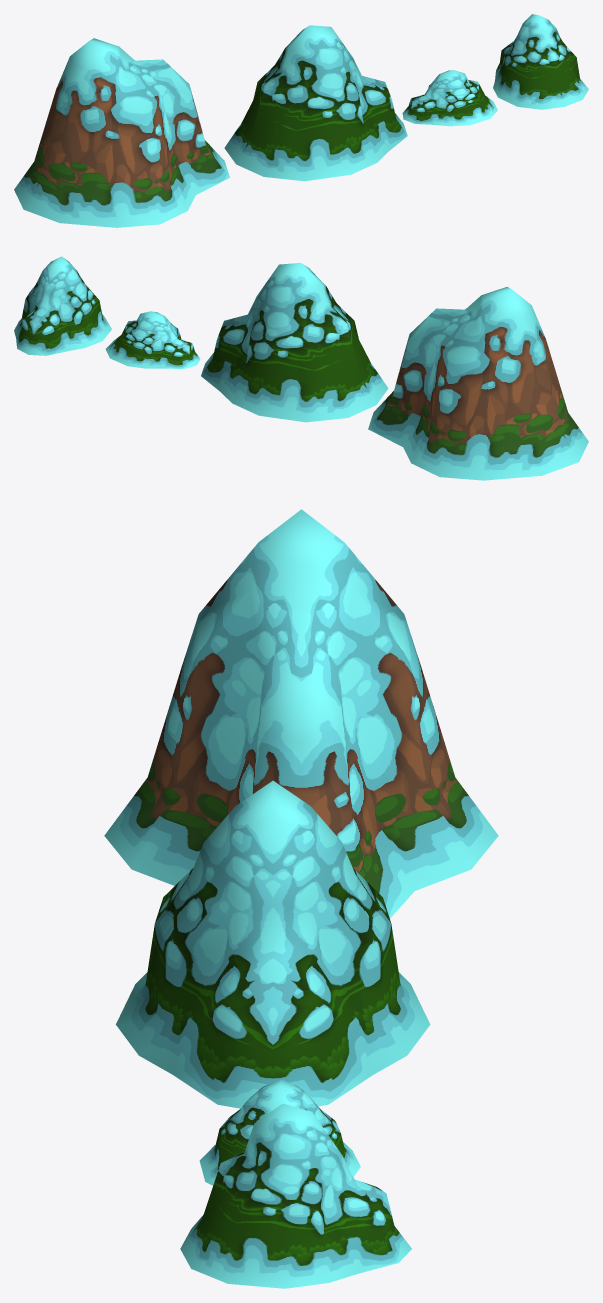
Rendered from Snow_Mountain.FBX.
3 views of the same model, one above another, from view 1: azimuth 30°, elevation 25°; view 2: azimuth 150°, elevation 25°; view 3: azimuth 270°, elevation 25° (orthographic). The views are drawn at different scales.
Visible parts, largest first — view 1: Snow_Mountain_01, Snow_Mountain_02, Snow_Mountain_003, Snow_Mountain_004; view 2: Snow_Mountain_01, Snow_Mountain_02, Snow_Mountain_003, Snow_Mountain_004; view 3: Snow_Mountain_01, Snow_Mountain_02, Snow_Mountain_003, Snow_Mountain_004.
Boxes of the visible parts, <box> form: Snow_Mountain_01: <box>14,38,229,227</box>; Snow_Mountain_02: <box>224,25,407,181</box>; Snow_Mountain_003: <box>493,14,588,109</box>; Snow_Mountain_004: <box>402,70,497,126</box>; Snow_Mountain_01: <box>368,287,588,480</box>; Snow_Mountain_02: <box>201,263,388,422</box>; Snow_Mountain_003: <box>14,256,111,355</box>; Snow_Mountain_004: <box>105,311,200,368</box>; Snow_Mountain_01: <box>104,509,498,918</box>; Snow_Mountain_02: <box>116,780,430,1108</box>; Snow_Mountain_003: <box>180,1103,411,1288</box>; Snow_Mountain_004: <box>199,1079,360,1185</box>.
Size of the model in its own units: 2310 by 612 by 715.
2 materials, 2 textured.
